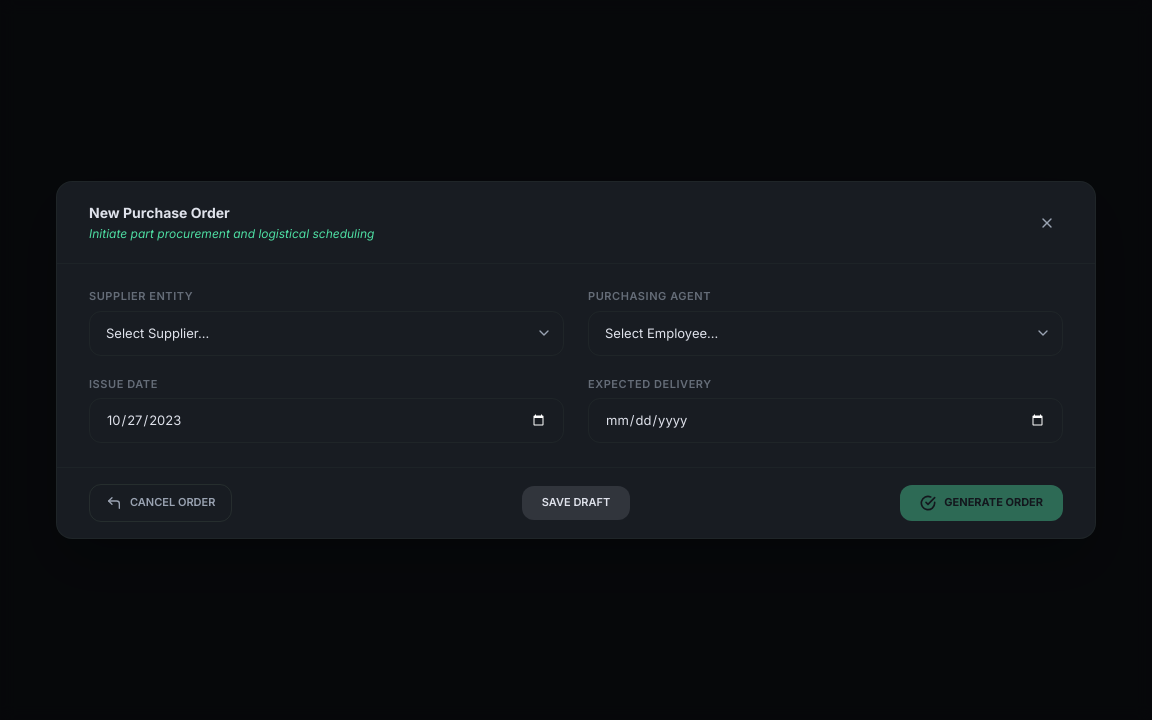
Test case: PurchaseOrderFormModal 3.1 — Dropdowns Supplier e Agent › selecionar supplier atualiza o estado — habilita geração quando todos os campos OK
Select "Bosch Global Parts" in the dropdown labelled "Supplier Entity" at (326, 333), box [89,311,564,356]
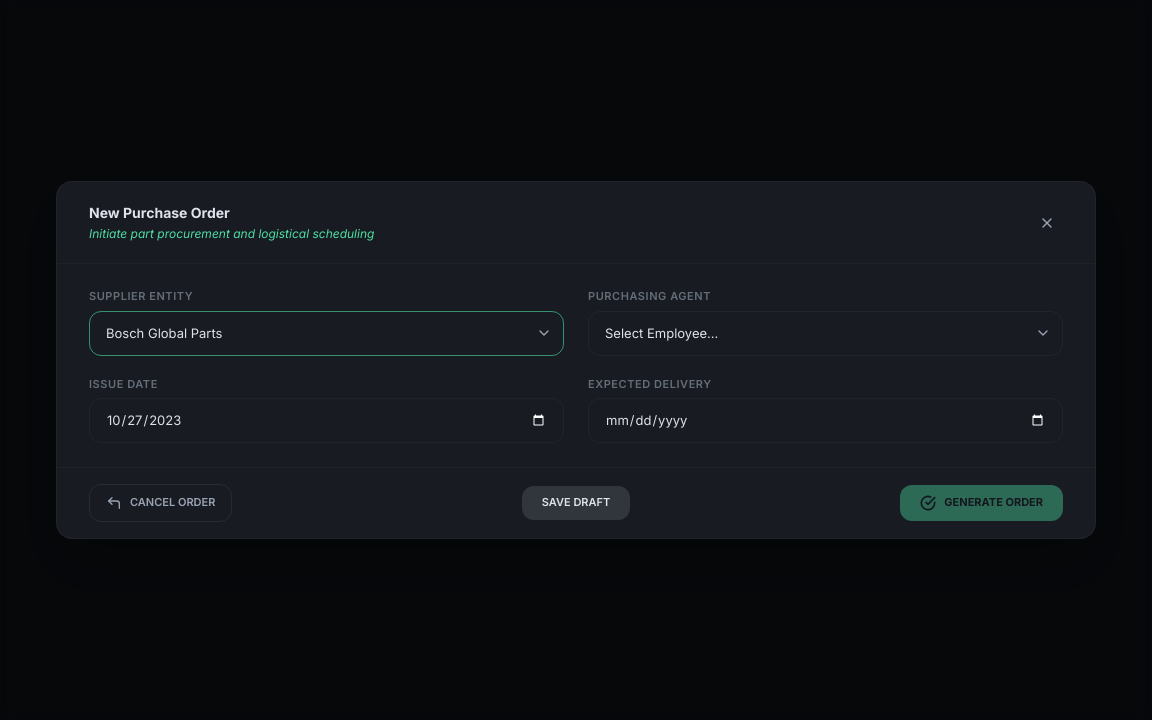
Select "Carlos Mendes" in the dropdown labelled "Purchasing Agent" at (826, 333), box [588,311,1063,356]
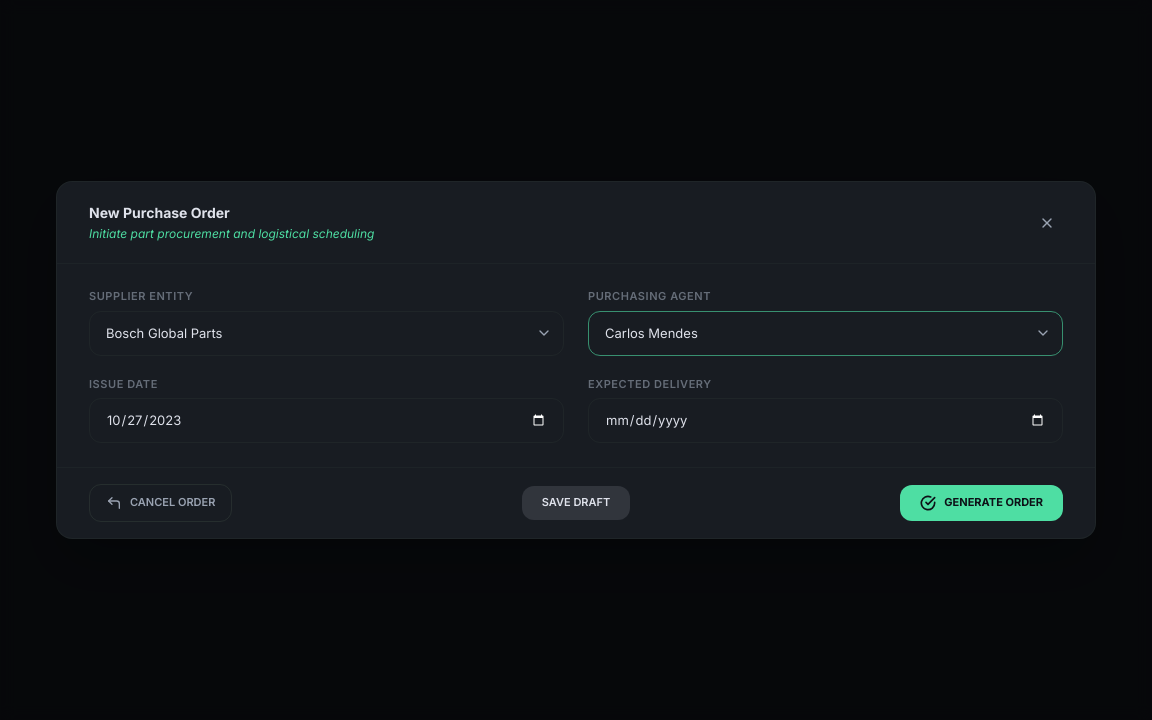
Expected: the button "GENERATE ORDER" is enabled, [900,485,1063,521]
